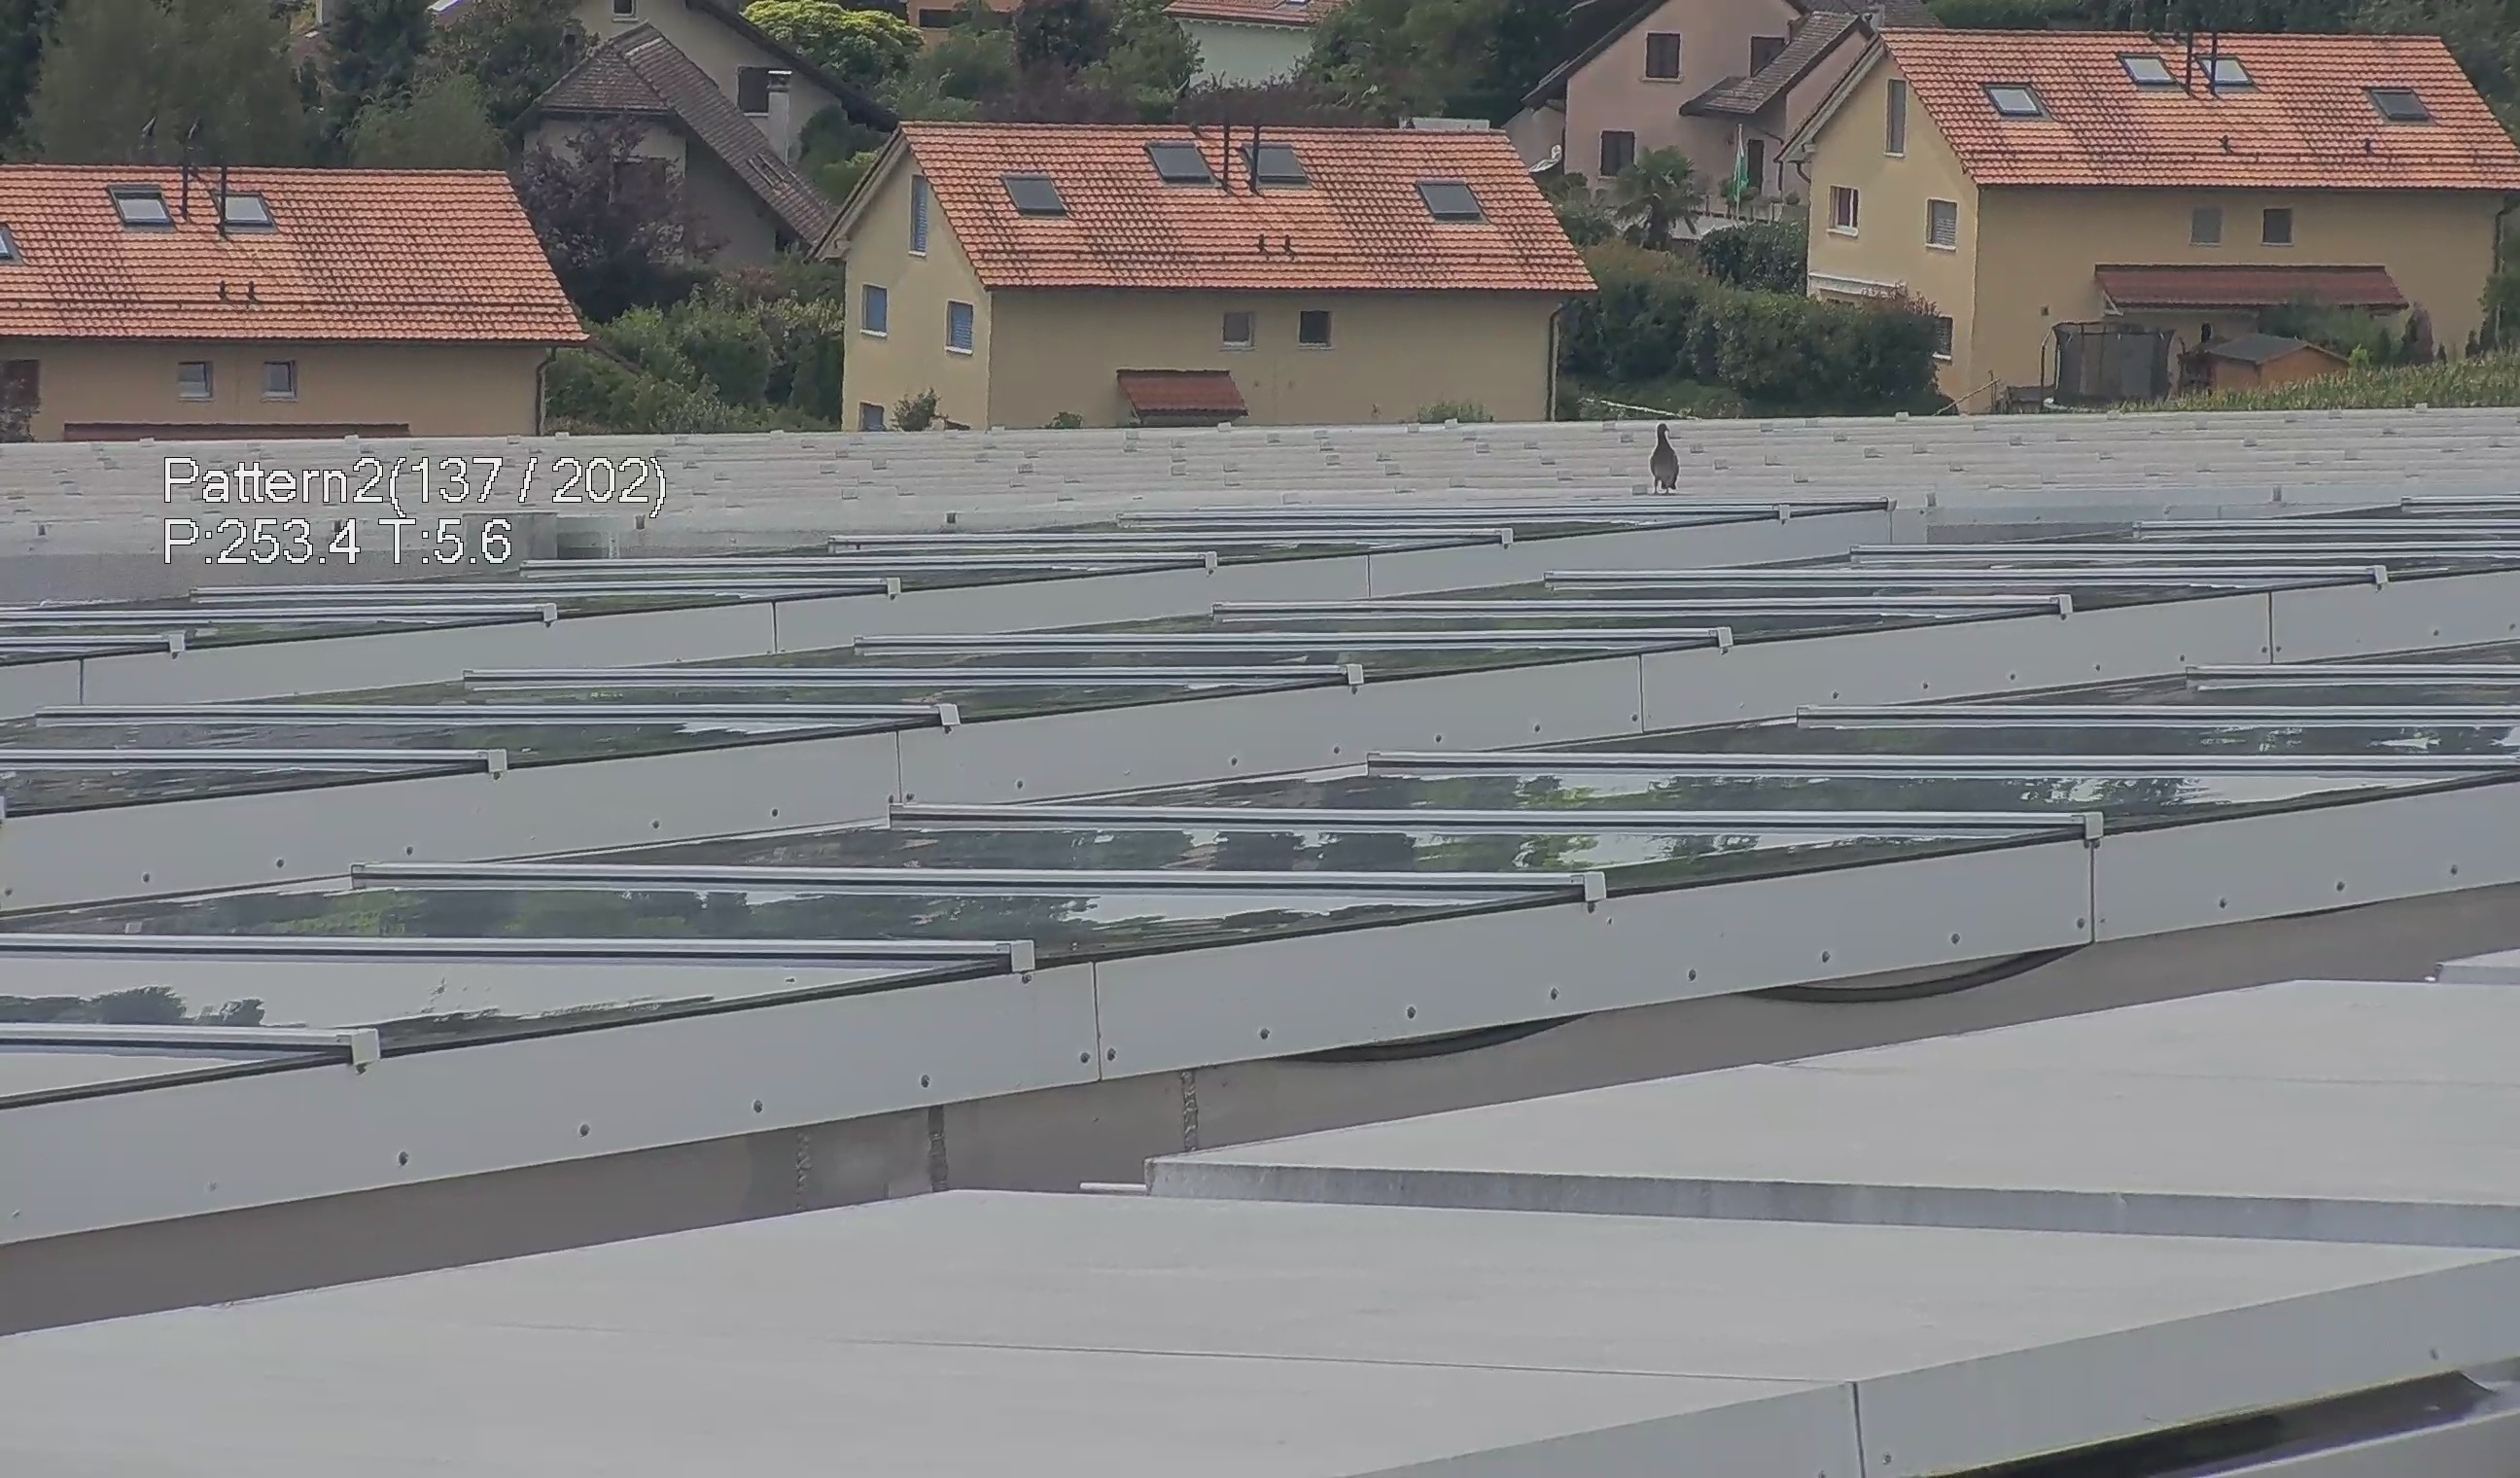Pigeon: (1642, 419, 1693, 498)
